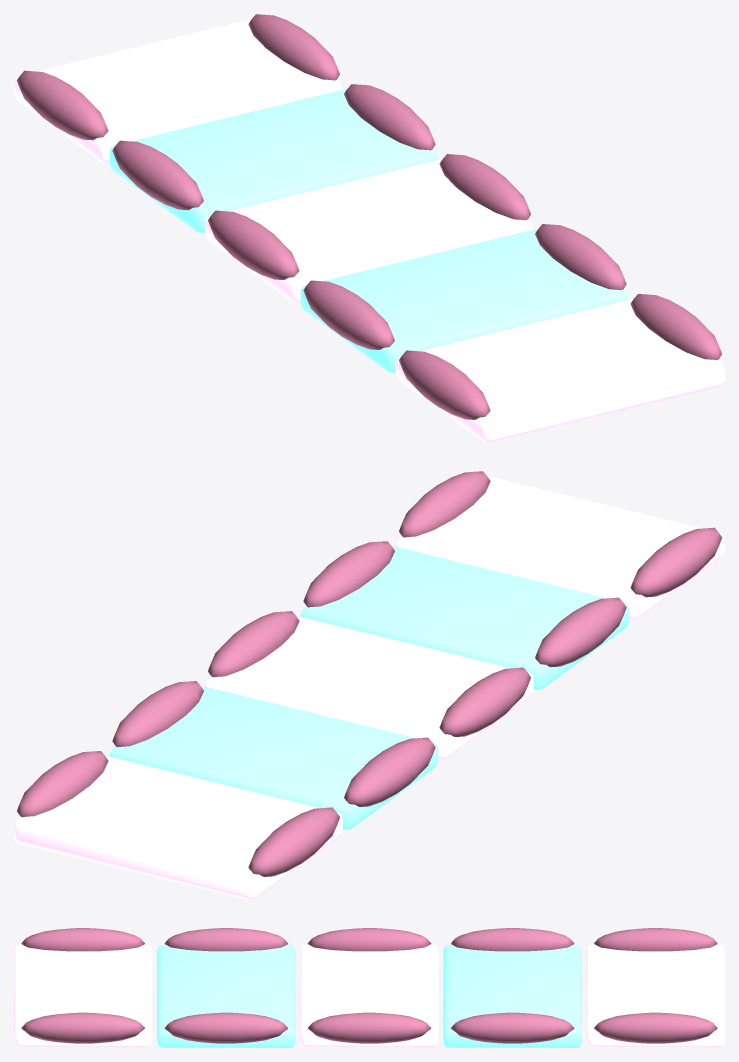
The model's file is UnfoldingBridge.fbx.
3 views of the same model, one above another, from view 1: azimuth 30°, elevation 25°; view 2: azimuth 150°, elevation 25°; view 3: azimuth 270°, elevation 25° (orthographic). The views are drawn at different scales.
Parts seen in each view (by area): view 1: BridgeSeg_4, BridgeSeg_2, BridgeSeg_1, BridgeSeg_0, BridgeSeg_3; view 2: BridgeSeg_0, BridgeSeg_2, BridgeSeg_3, BridgeSeg_4, BridgeSeg_1; view 3: BridgeSeg_0, BridgeSeg_4, BridgeSeg_1, BridgeSeg_3, BridgeSeg_2.
Part boxes in pixels (x1=…): BridgeSeg_4: x1=396, y1=294, x2=724, y2=442; BridgeSeg_2: x1=205, y1=154, x2=533, y2=302; BridgeSeg_1: x1=109, y1=84, x2=438, y2=232; BridgeSeg_0: x1=14, y1=14, x2=342, y2=162; BridgeSeg_3: x1=300, y1=224, x2=629, y2=372; BridgeSeg_0: x1=14, y1=751, x2=342, y2=899; BridgeSeg_2: x1=205, y1=611, x2=533, y2=759; BridgeSeg_3: x1=300, y1=541, x2=629, y2=689; BridgeSeg_4: x1=396, y1=471, x2=724, y2=619; BridgeSeg_1: x1=109, y1=681, x2=438, y2=829; BridgeSeg_0: x1=586, y1=928, x2=724, y2=1047; BridgeSeg_4: x1=14, y1=928, x2=152, y2=1047; BridgeSeg_1: x1=443, y1=928, x2=581, y2=1047; BridgeSeg_3: x1=157, y1=928, x2=295, y2=1047; BridgeSeg_2: x1=300, y1=928, x2=438, y2=1047.
Bounding box in the file's own units: 245 × 745 × 39.
1 material, 1 textured.
